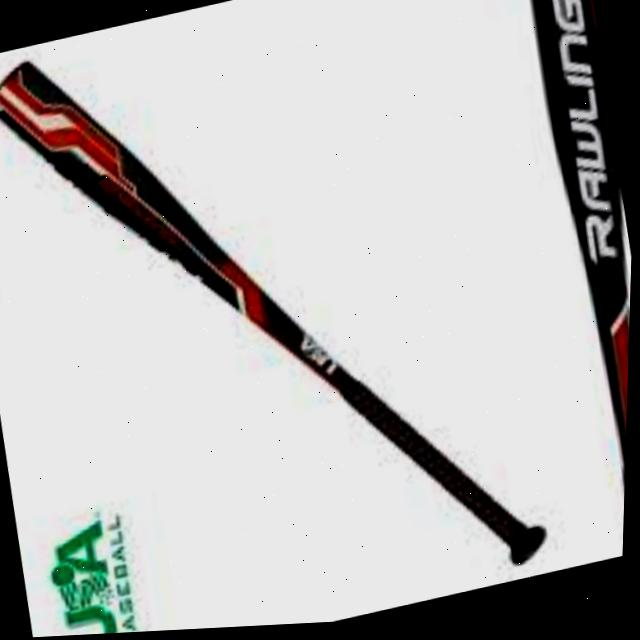baseball bat: (0, 56, 540, 570), (513, 0, 640, 546)
